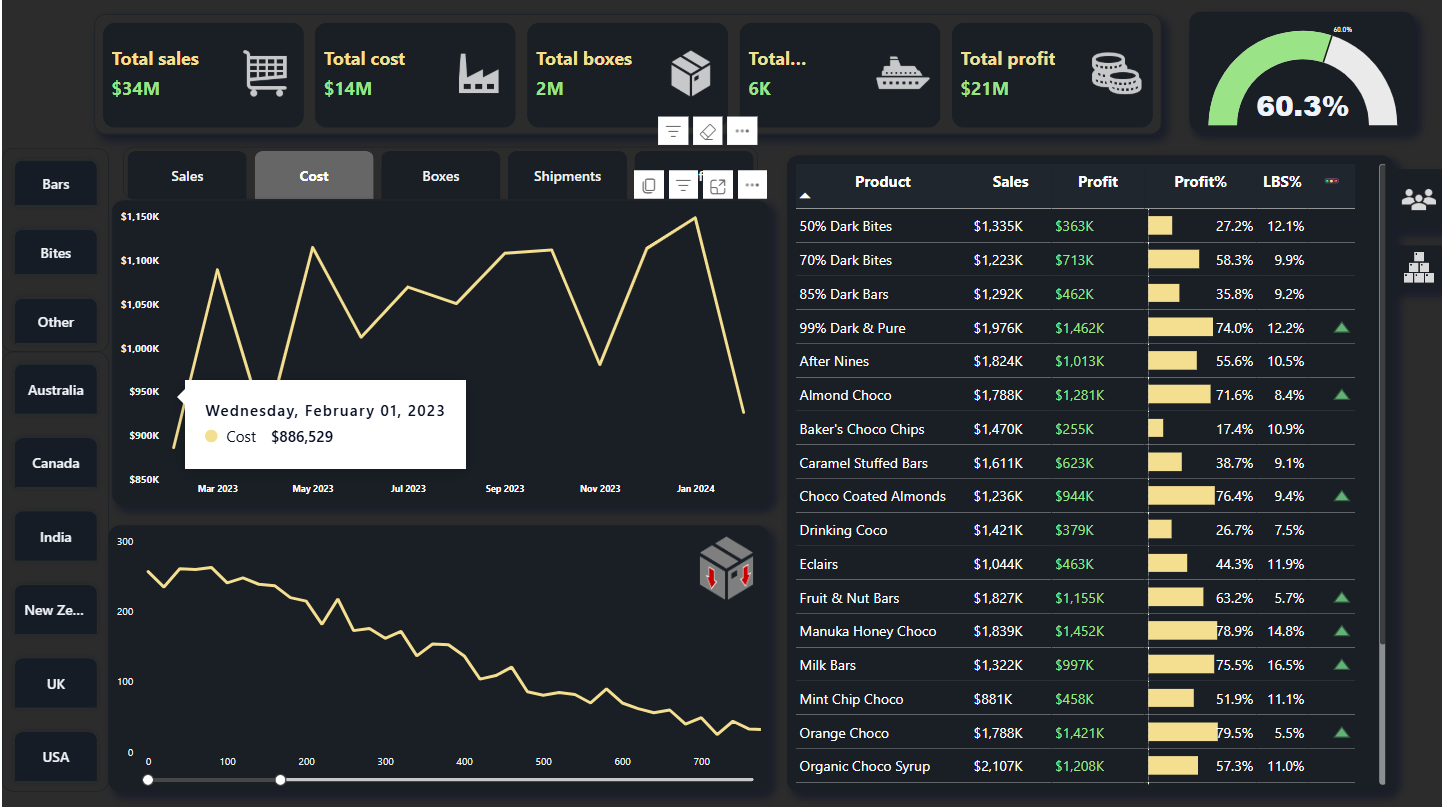

The page's visual inventory and layout, read from the dashboard file:
{"tool":"powerbi","page":{"name":"Page 7","canvas":[1920,1080],"ordinal":0},"visuals":[{"type":"cardVisual","fields":{"Data":["_measures.Total sales","_measures.Total cost","_measures.Total boxes","_measures.Total shipments","_measures.Total profit"]},"box":[124,22,1422,160],"z":0},{"type":"gauge","fields":{"Y":["_measures.Profit%"]},"box":[1584,18,300,160],"z":1000},{"type":"advancedSlicerVisual","fields":{"Values":["Measure selector.Measure selector"]},"box":[162,198,846,70],"z":2000},{"type":"areaChart","title":"Up by 15.6%","fields":{"Y":["_measures.Total sales"],"Category":["calendar.Start of Month"]},"box":[146,270,876,406],"z":3000},{"type":"lineChart","fields":{"Category":["shipments.Boxes (bins)"],"Y":["_measures.Total shipments"]},"box":[142,704,880,354],"z":4000},{"type":"tableEx","title":"People_Table","fields":{"Values":["people.Picture","people.Sales person","_measures.Total sales","_measures.Total profit","_measures.Profit%","_measures.LBS%","_measures.profit Target Indicator"]},"box":[1042,206,816,852],"z":5000},{"type":"image","box":[1858,228,62,80],"z":7000},{"type":"image","box":[1858,330,62,58],"z":8000},{"type":"advancedSlicerVisual","fields":{"Values":["locations.Geo"]},"box":[0,472,142,586],"z":9000},{"type":"advancedSlicerVisual","fields":{"Values":["products.Category"]},"box":[0,200,142,272],"z":10000},{"type":"image","box":[910,704,112,114],"z":11000}]}

Visuals, with their boxes in screenshot pixels (x1, y1, x2, y2), scaled from the page's 1920x1080 canvas onto the 1443x807 screenshot:
cardVisual - _measures.Total sales x _measures.Total cost: pyautogui.locateOnScreen(93, 16, 1162, 136)
gauge - _measures.Profit%: pyautogui.locateOnScreen(1190, 13, 1416, 133)
advancedSlicerVisual - Measure selector.Measure selector: pyautogui.locateOnScreen(122, 148, 758, 200)
"Up by 15.6%" areaChart: pyautogui.locateOnScreen(110, 202, 768, 505)
lineChart - shipments.Boxes (bins) x _measures.Total shipments: pyautogui.locateOnScreen(107, 526, 768, 791)
"People_Table" tableEx: pyautogui.locateOnScreen(783, 154, 1396, 791)
image: pyautogui.locateOnScreen(1396, 170, 1442, 230)
image: pyautogui.locateOnScreen(1396, 247, 1442, 290)
advancedSlicerVisual - locations.Geo: pyautogui.locateOnScreen(0, 353, 107, 791)
advancedSlicerVisual - products.Category: pyautogui.locateOnScreen(0, 149, 107, 353)
image: pyautogui.locateOnScreen(684, 526, 768, 611)
